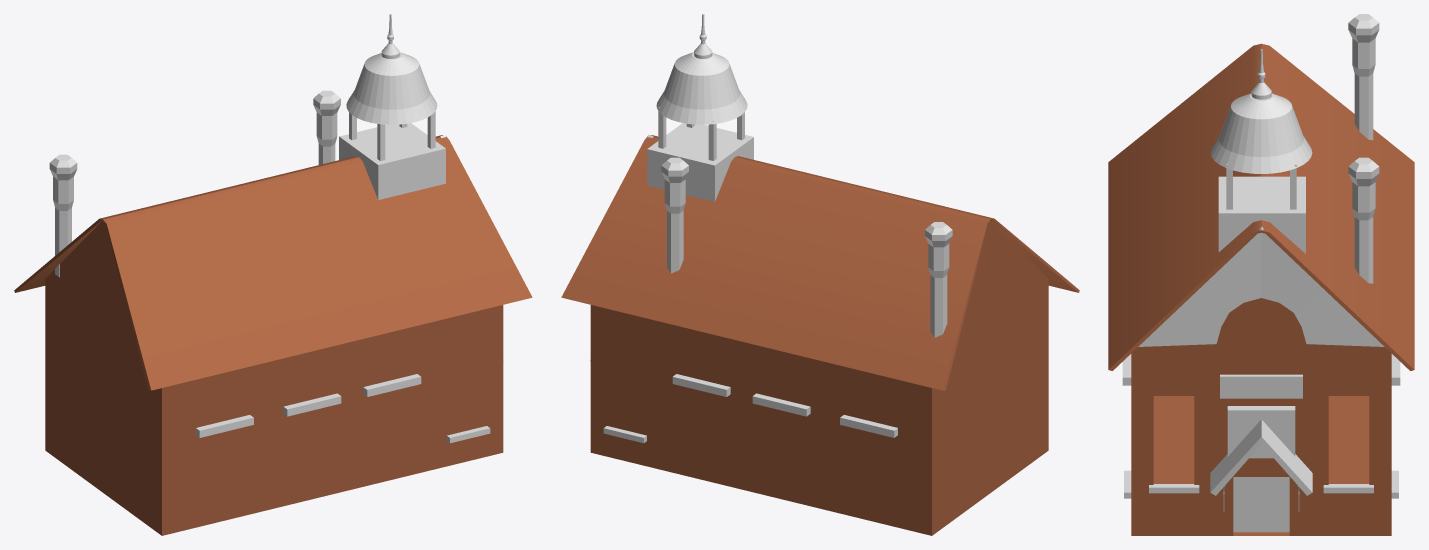
Rendered from church.gltf.
The picture shows the model from 3 angles, left to right: view 1: azimuth 30°, elevation 25°; view 2: azimuth 150°, elevation 25°; view 3: azimuth 270°, elevation 25°; orthographic projection. The views are drawn at different scales.
Parts seen in each view (by area): view 1: THE BASE, IDK BELL THING, The Bell, Cylinder.001, Cylinder, WINDOW SILL.002, WINDOW SILL.001, WINDOW SILL.003; view 2: THE BASE, The Bell, IDK BELL THING, Cylinder.001, Cylinder, WINDOW SILL.002, WINDOW SILL.001, WINDOW SILL.003; view 3: THE BASE, Cube.003, The Bell, IDK BELL THING, DOOR, Cube, Cylinder, Cylinder.001, Cube.002, Cube.004, WINDOW SILL, bell lines.001 (+3 smaller).
Part boxes in pixels (left/top/right/bottom): THE BASE: left=14, top=135, right=532, bottom=535; IDK BELL THING: left=339, top=123, right=445, bottom=199; The Bell: left=346, top=52, right=437, bottom=124; Cylinder.001: left=49, top=154, right=77, bottom=277; Cylinder: left=313, top=90, right=340, bottom=164; WINDOW SILL.002: left=283, top=393, right=341, bottom=416; WINDOW SILL.001: left=363, top=374, right=421, bottom=396; WINDOW SILL.003: left=196, top=415, right=253, bottom=437; THE BASE: left=561, top=135, right=1079, bottom=535; The Bell: left=656, top=52, right=747, bottom=124; IDK BELL THING: left=647, top=123, right=753, bottom=201; Cylinder.001: left=925, top=222, right=952, bottom=337; Cylinder: left=661, top=157, right=688, bottom=273; WINDOW SILL.002: left=752, top=393, right=810, bottom=416; WINDOW SILL.001: left=672, top=374, right=730, bottom=396; WINDOW SILL.003: left=840, top=415, right=897, bottom=437; THE BASE: left=1108, top=43, right=1414, bottom=535; Cube.003: left=1138, top=226, right=1384, bottom=346; The Bell: left=1210, top=93, right=1312, bottom=173; IDK BELL THING: left=1218, top=176, right=1305, bottom=253; DOOR: left=1233, top=477, right=1289, bottom=532; Cube: left=1210, top=419, right=1312, bottom=495; Cylinder: left=1348, top=157, right=1379, bottom=283; Cylinder.001: left=1348, top=14, right=1379, bottom=140; Cube.002: left=1227, top=406, right=1295, bottom=458; Cube.004: left=1220, top=374, right=1302, bottom=398; WINDOW SILL: left=1149, top=484, right=1373, bottom=493; bell lines.001: left=1226, top=164, right=1296, bottom=209.
Bounding box in the file's own units: 4.55 × 4.43 × 2.69.
Materials: 1 (1 with a texture image).
